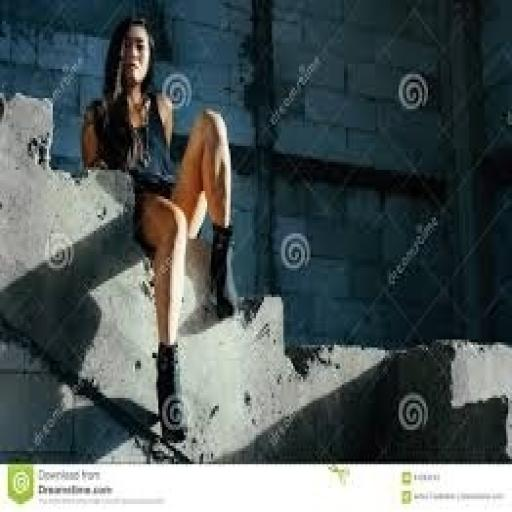sitting: (78, 13, 237, 443)
